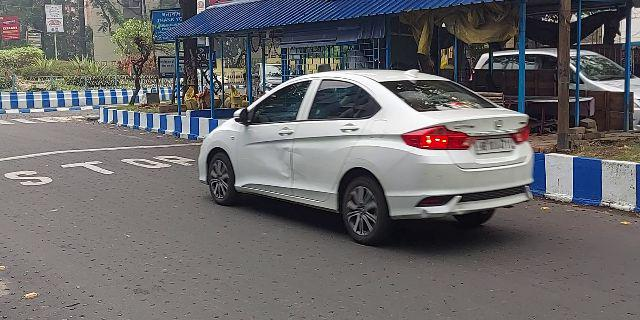Car: (192, 60, 555, 243)
